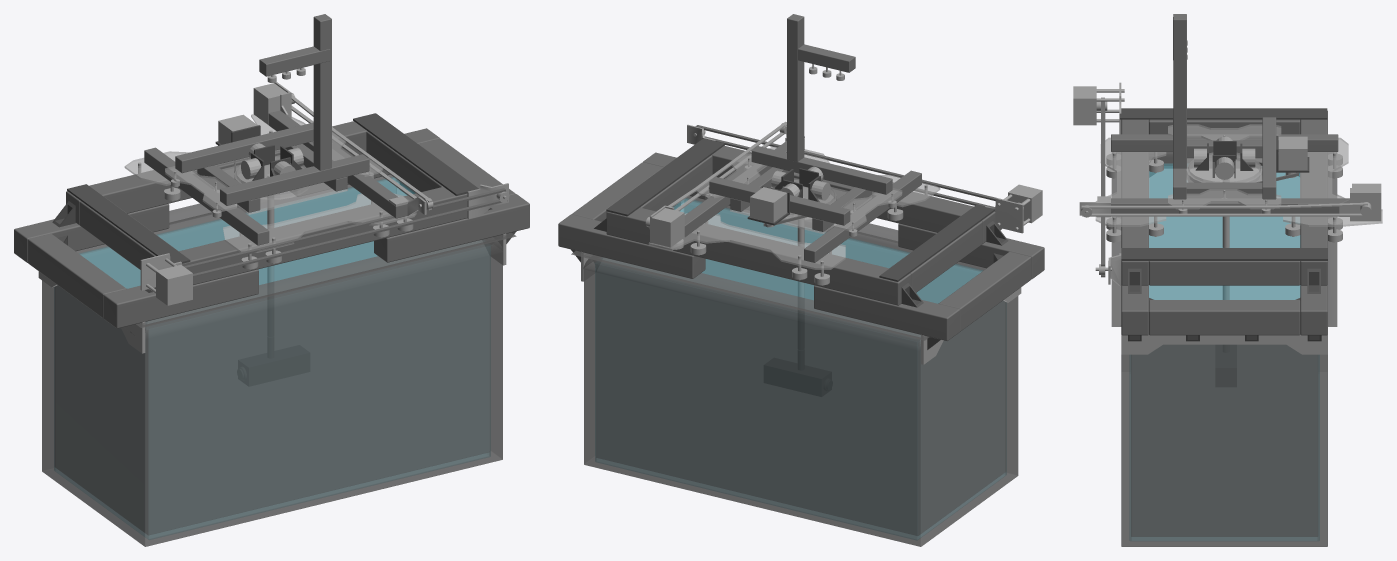
The model's file is suisou.fbx.
3 renders of one model, left to right at view 1: azimuth 30°, elevation 25°; view 2: azimuth 150°, elevation 25°; view 3: azimuth 270°, elevation 25°, orthographic. The views are drawn at different scales.
Parts seen in each view (by area): view 1: polySurface135, polySurface136, polySurface137; view 2: polySurface135, polySurface136, polySurface137; view 3: polySurface135, polySurface137, polySurface136.
Boxes of the visible parts, left/top/right/bottom form: polySurface135: left=14, top=113, right=529, bottom=546; polySurface136: left=165, top=14, right=382, bottom=217; polySurface137: left=124, top=82, right=433, bottom=269; polySurface135: left=558, top=124, right=1044, bottom=546; polySurface136: left=696, top=14, right=902, bottom=236; polySurface137: left=645, top=121, right=940, bottom=285; polySurface135: left=1073, top=82, right=1337, bottom=546; polySurface137: left=1079, top=134, right=1382, bottom=242; polySurface136: left=1168, top=14, right=1309, bottom=213.
Size of the model in its own units: 1.64 by 1.73 by 1.06.
